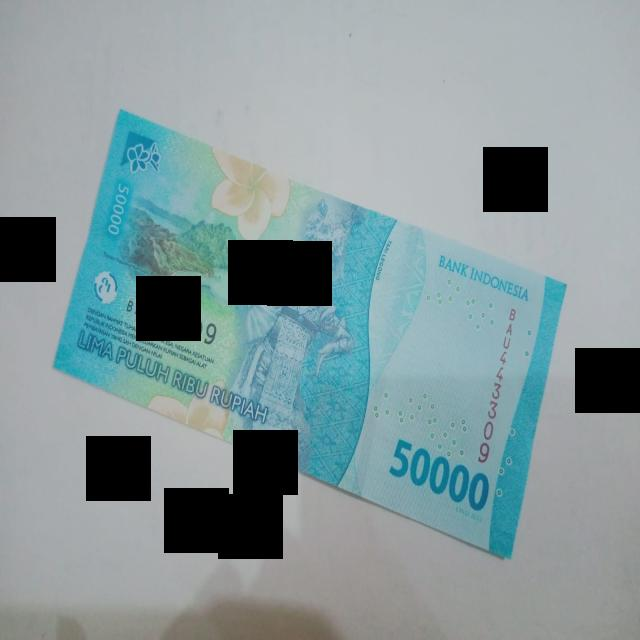lima puluh ribu rupiah: (55, 112, 564, 557)
